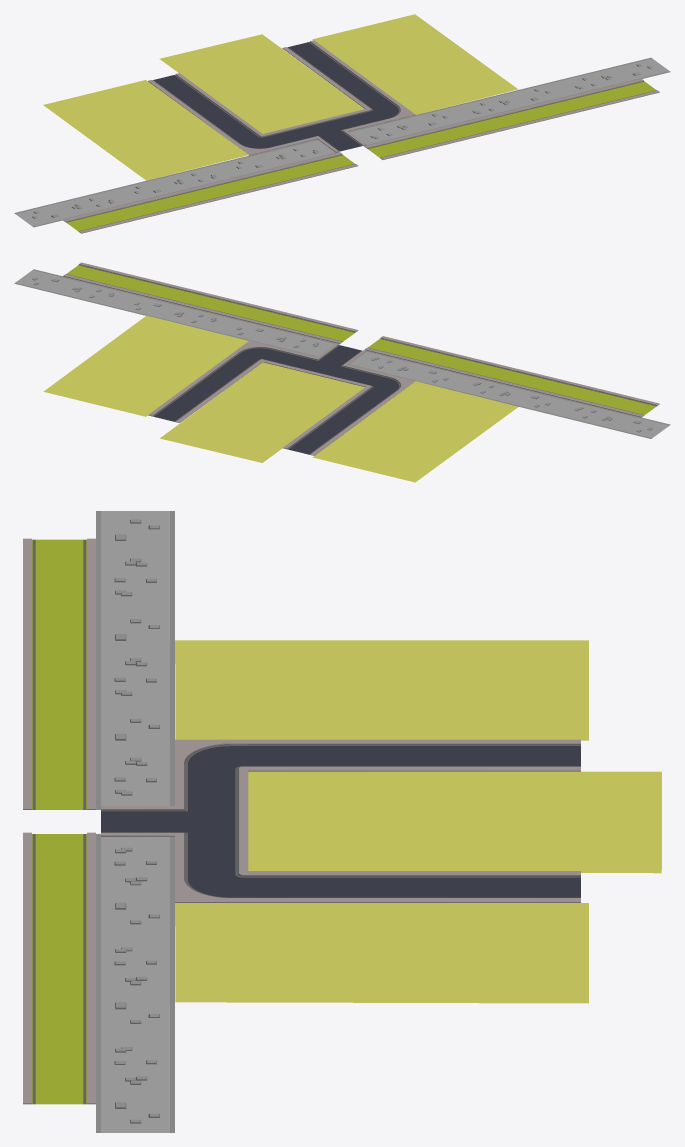
Rendered from Environment.fbx.
3 views of the same model, one above another, from view 1: azimuth 30°, elevation 25°; view 2: azimuth 150°, elevation 25°; view 3: azimuth 270°, elevation 25° (orthographic). The views are drawn at different scales.
Visible parts, largest first — view 1: grass, grass1, grass2, Main_Road, grass_sidewalk, grass_sidewalk2, sidewalk2, sidewalk5, sidewalk1, sidewalk4, sidewalk, sidewalk3; view 2: grass, grass1, grass2, Main_Road, grass_sidewalk, grass_sidewalk2, sidewalk5, sidewalk2, sidewalk1, sidewalk4, sidewalk3, sidewalk; view 3: grass2, grass1, grass, Main_Road, grass_sidewalk2, grass_sidewalk, sidewalk1, sidewalk4, sidewalk2, sidewalk5, sidewalk3, sidewalk.
Part boxes in pixels (box(x1,y1,x2,y2)): grass: box(43, 80, 248, 180); grass1: box(312, 14, 517, 114); grass2: box(159, 34, 364, 133); Main_Road: box(148, 40, 415, 155); grass_sidewalk: box(63, 152, 358, 233); grass_sidewalk2: box(364, 78, 659, 159); sidewalk2: box(14, 188, 134, 227); sidewalk5: box(549, 57, 670, 96); sidewalk1: box(116, 163, 236, 201); sidewalk4: box(447, 82, 567, 121); sidewalk: box(218, 139, 338, 177); sidewalk3: box(348, 107, 465, 146); grass: box(312, 381, 518, 482); grass1: box(43, 315, 248, 416); grass2: box(160, 362, 364, 462); Main_Road: box(148, 340, 415, 455); grass_sidewalk: box(364, 336, 659, 417); grass_sidewalk2: box(63, 262, 358, 343); sidewalk5: box(14, 269, 135, 308); sidewalk2: box(549, 400, 670, 438); sidewalk1: box(448, 375, 568, 413); sidewalk4: box(116, 294, 237, 333); sidewalk3: box(218, 319, 339, 356); sidewalk: box(349, 350, 466, 388); grass2: box(248, 771, 661, 873); grass1: box(175, 903, 588, 1003); grass: box(175, 640, 588, 740); Main_Road: box(101, 739, 580, 902); grass_sidewalk2: box(23, 832, 95, 1104); grass_sidewalk: box(23, 538, 95, 809); sidewalk1: box(96, 610, 174, 710); sidewalk4: box(96, 933, 174, 1033); sidewalk2: box(96, 511, 174, 610); sidewalk5: box(96, 1033, 174, 1132); sidewalk3: box(96, 834, 174, 933); sidewalk: box(96, 710, 174, 809).
Size of the model in its own units: 12750 by 20.85 by 5538.
